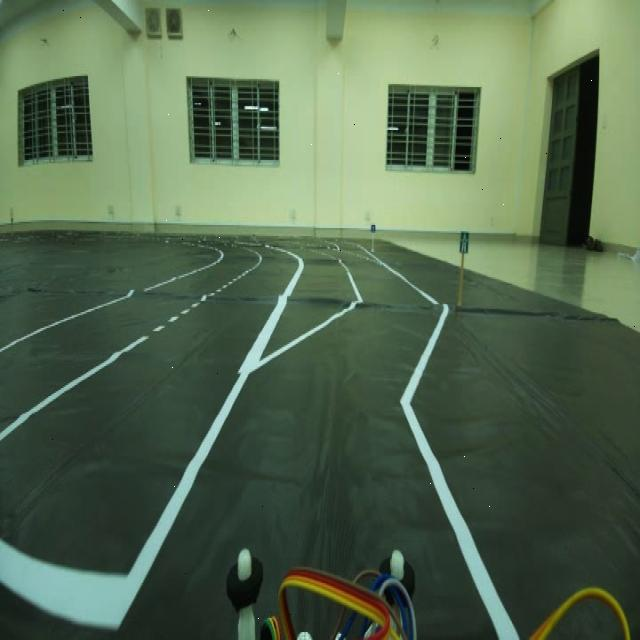highway_entry: (456, 222, 472, 258)
